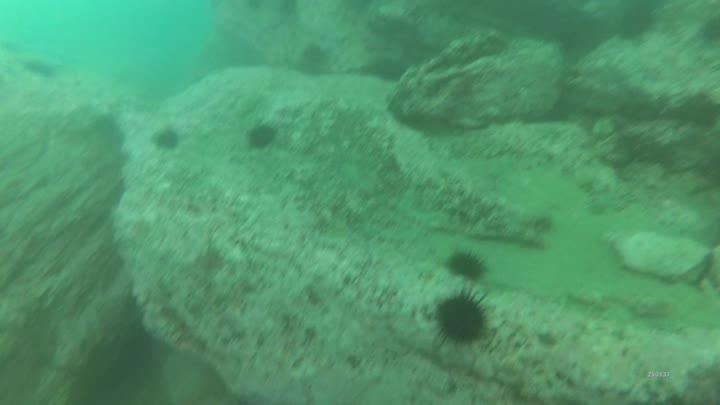echinus: (431, 288, 493, 348), (614, 4, 658, 43), (444, 248, 490, 283), (295, 41, 333, 79), (12, 47, 54, 79), (243, 120, 279, 153), (150, 125, 183, 155)
